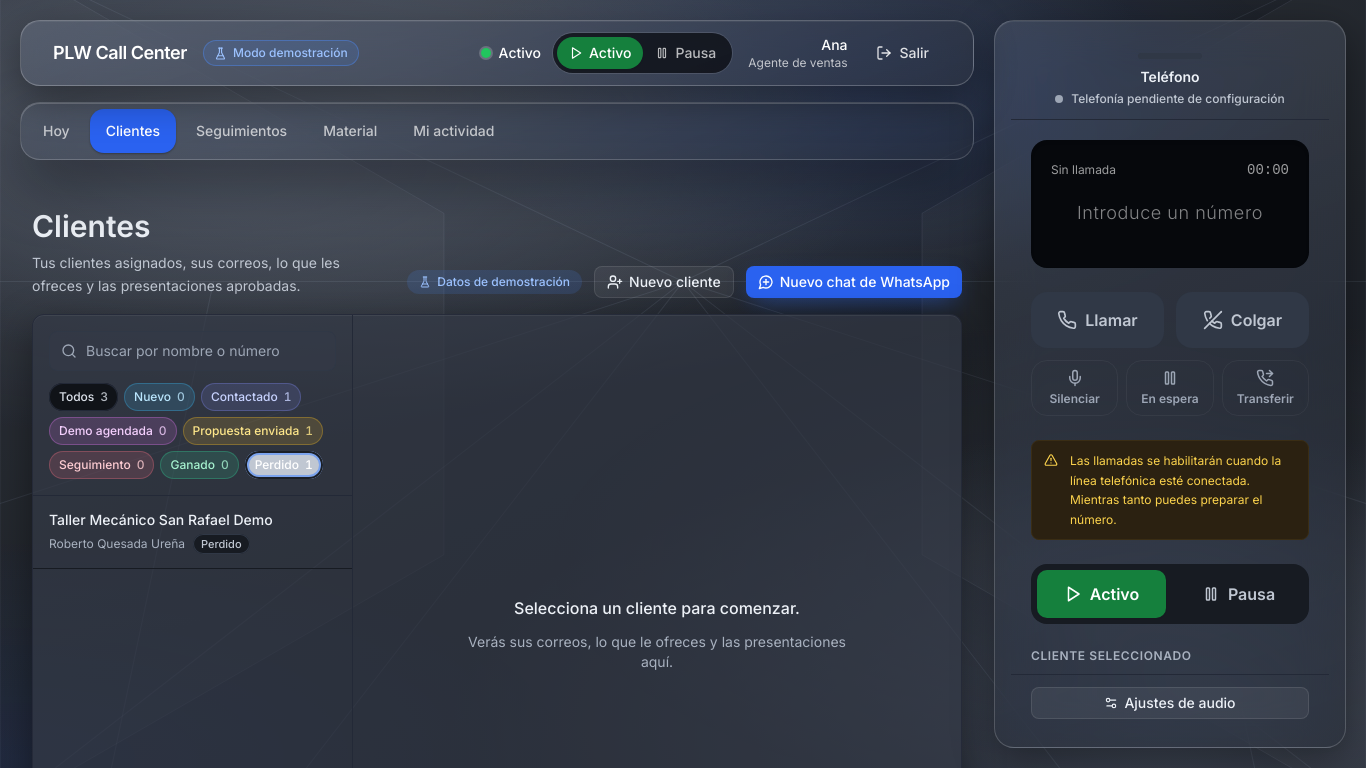
the stage tags filter the list and follow a stage change at once
Earlier steps of the test are not shown.
# A second click shows everyone again.
Click the button "Perdido 1": (284, 464) [245,450,323,478]
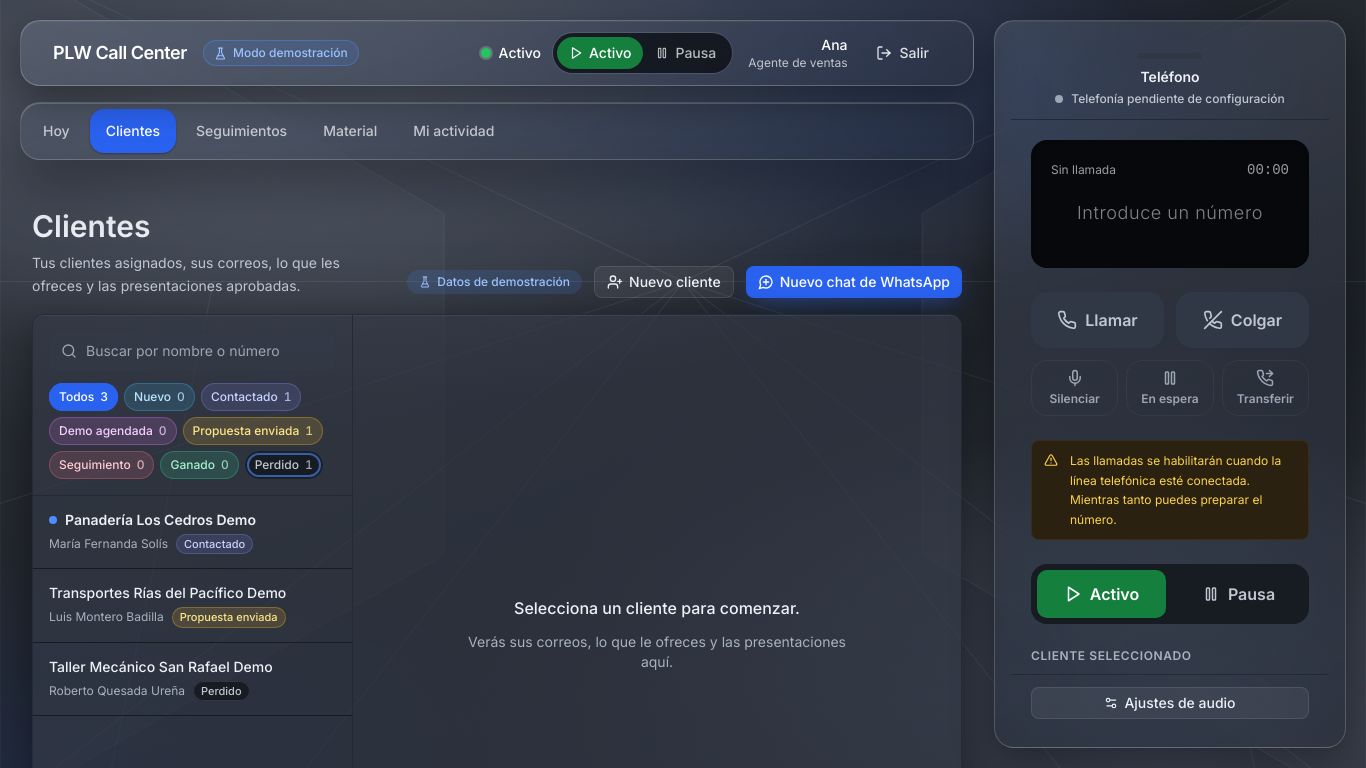
In the search field named "Buscar clientes": (192, 350) [49,330,336,370], type "2200 0101"
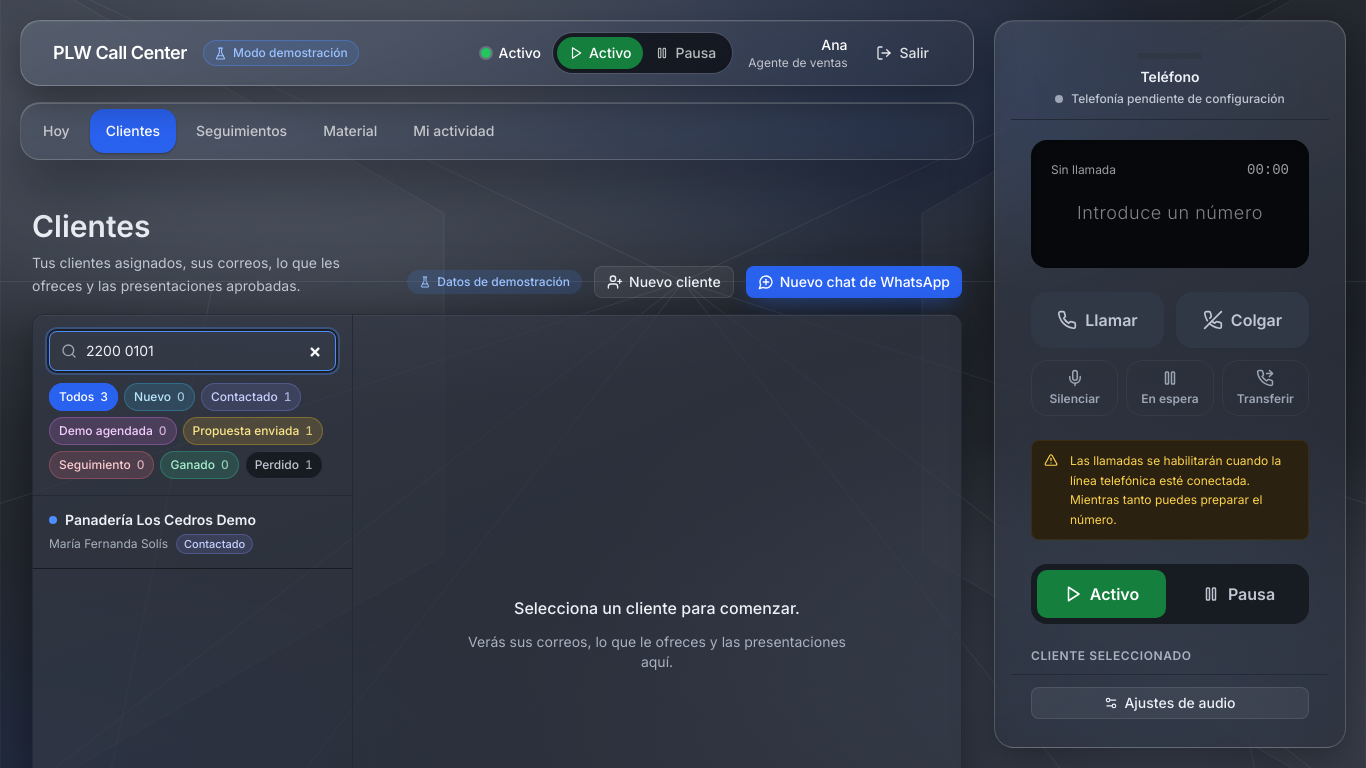
Clear the search field named "Buscar clientes": (192, 350) [49,330,336,370]
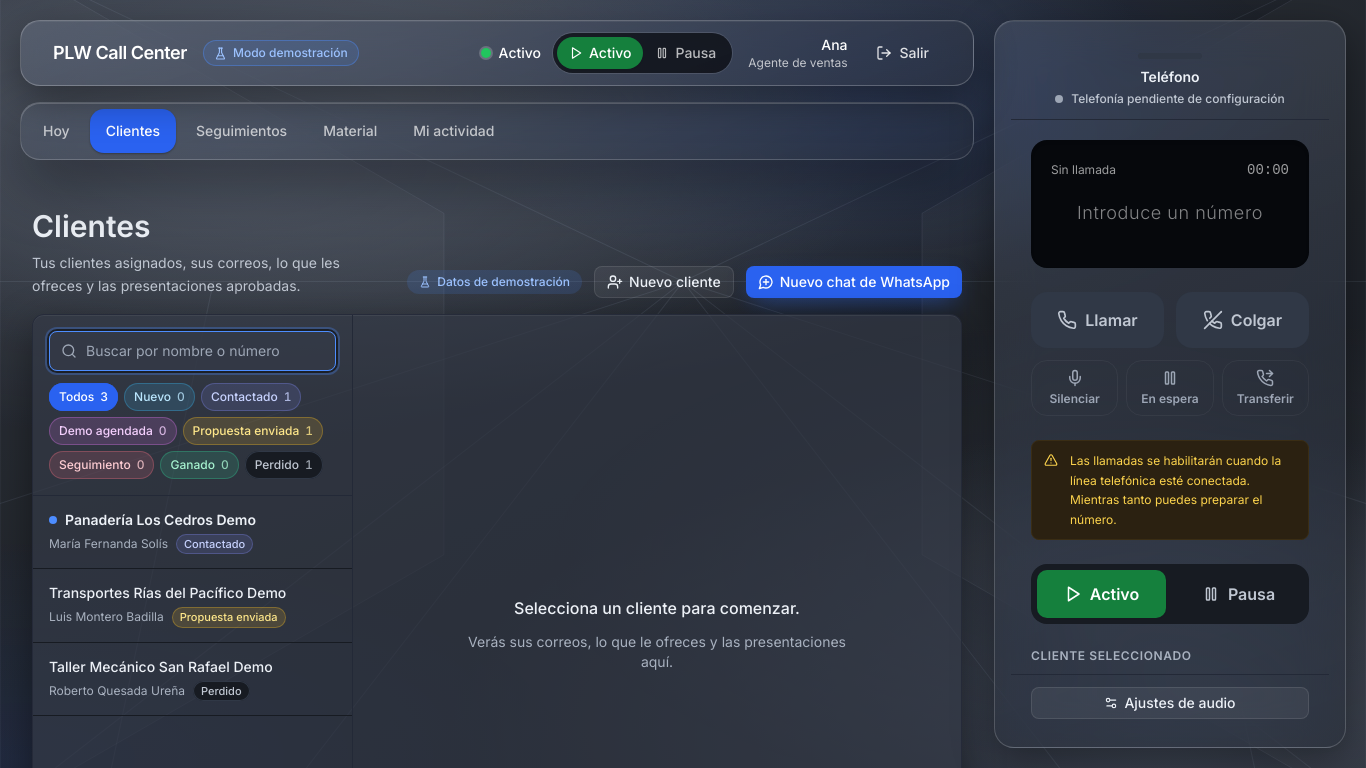
Click the button "Contactado 1": (251, 396) [201,382,302,410]
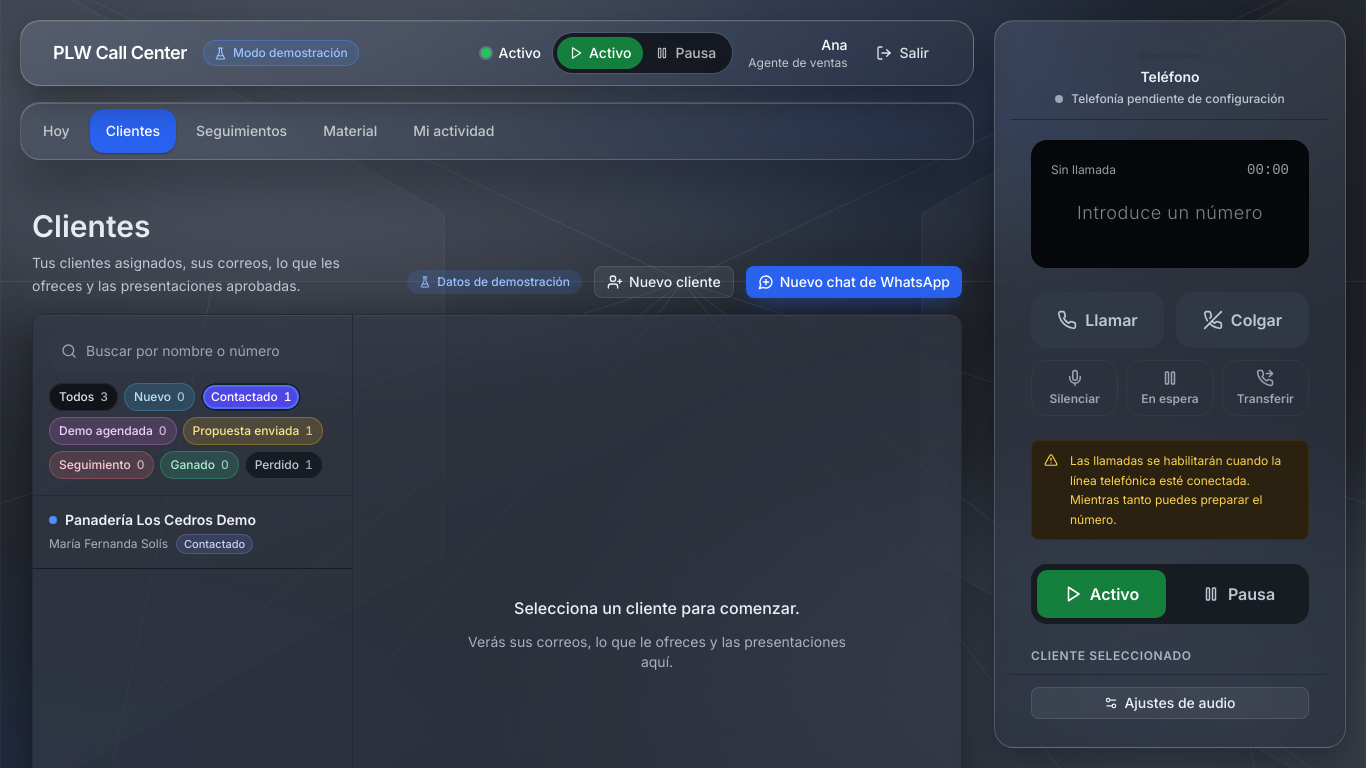
Click the button "Panadería Los Cedros Demo María Fernanda Solís Contactado": (192, 532) [33,496,352,569]
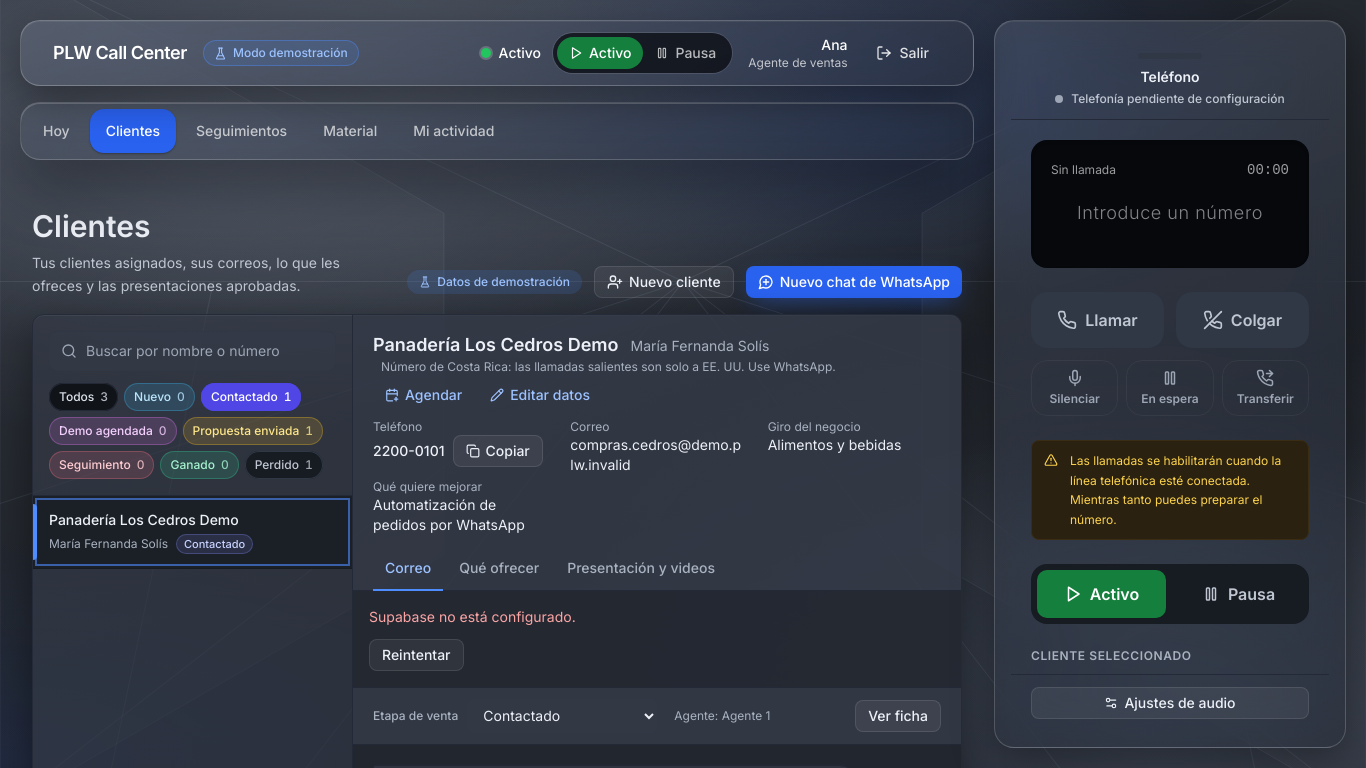
Select "Ganado" in the dropdown labelled "Etapa de venta": (562, 716) [466,698,658,734]
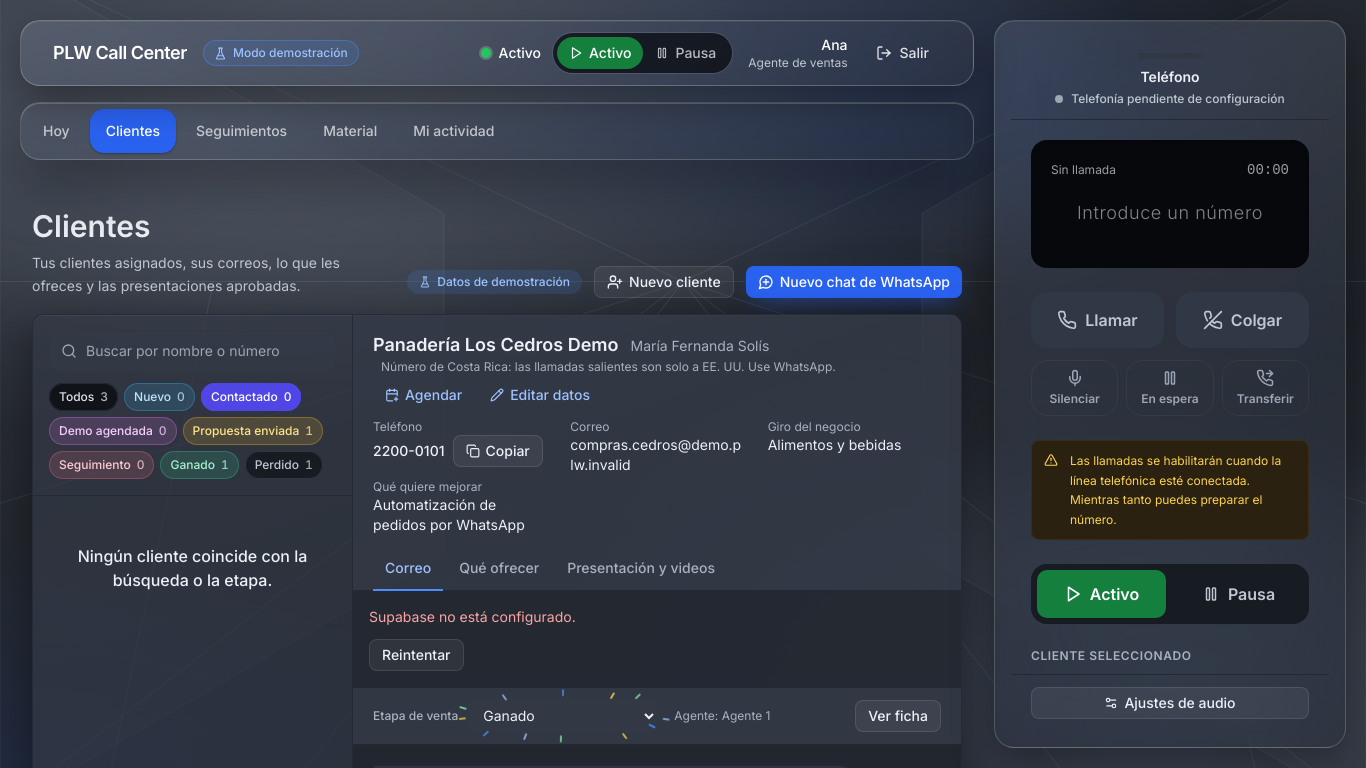
Expected: the button "Ganado 1" is shown, [160,450,239,478]
Expected: the button "Contactado 0" is shown, [201,382,302,410]
Expected: the text "Ningún cliente coincide con la búsqueda o la etapa." is shown, [78,546,307,590]
